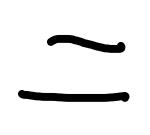eqv: (18, 35, 129, 102)
